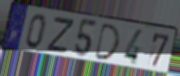0: (24, 12, 48, 51)
4: (121, 27, 145, 67)
5: (72, 17, 99, 60)
7: (151, 32, 170, 68)
D: (93, 22, 122, 62)
Z: (44, 17, 77, 56)
